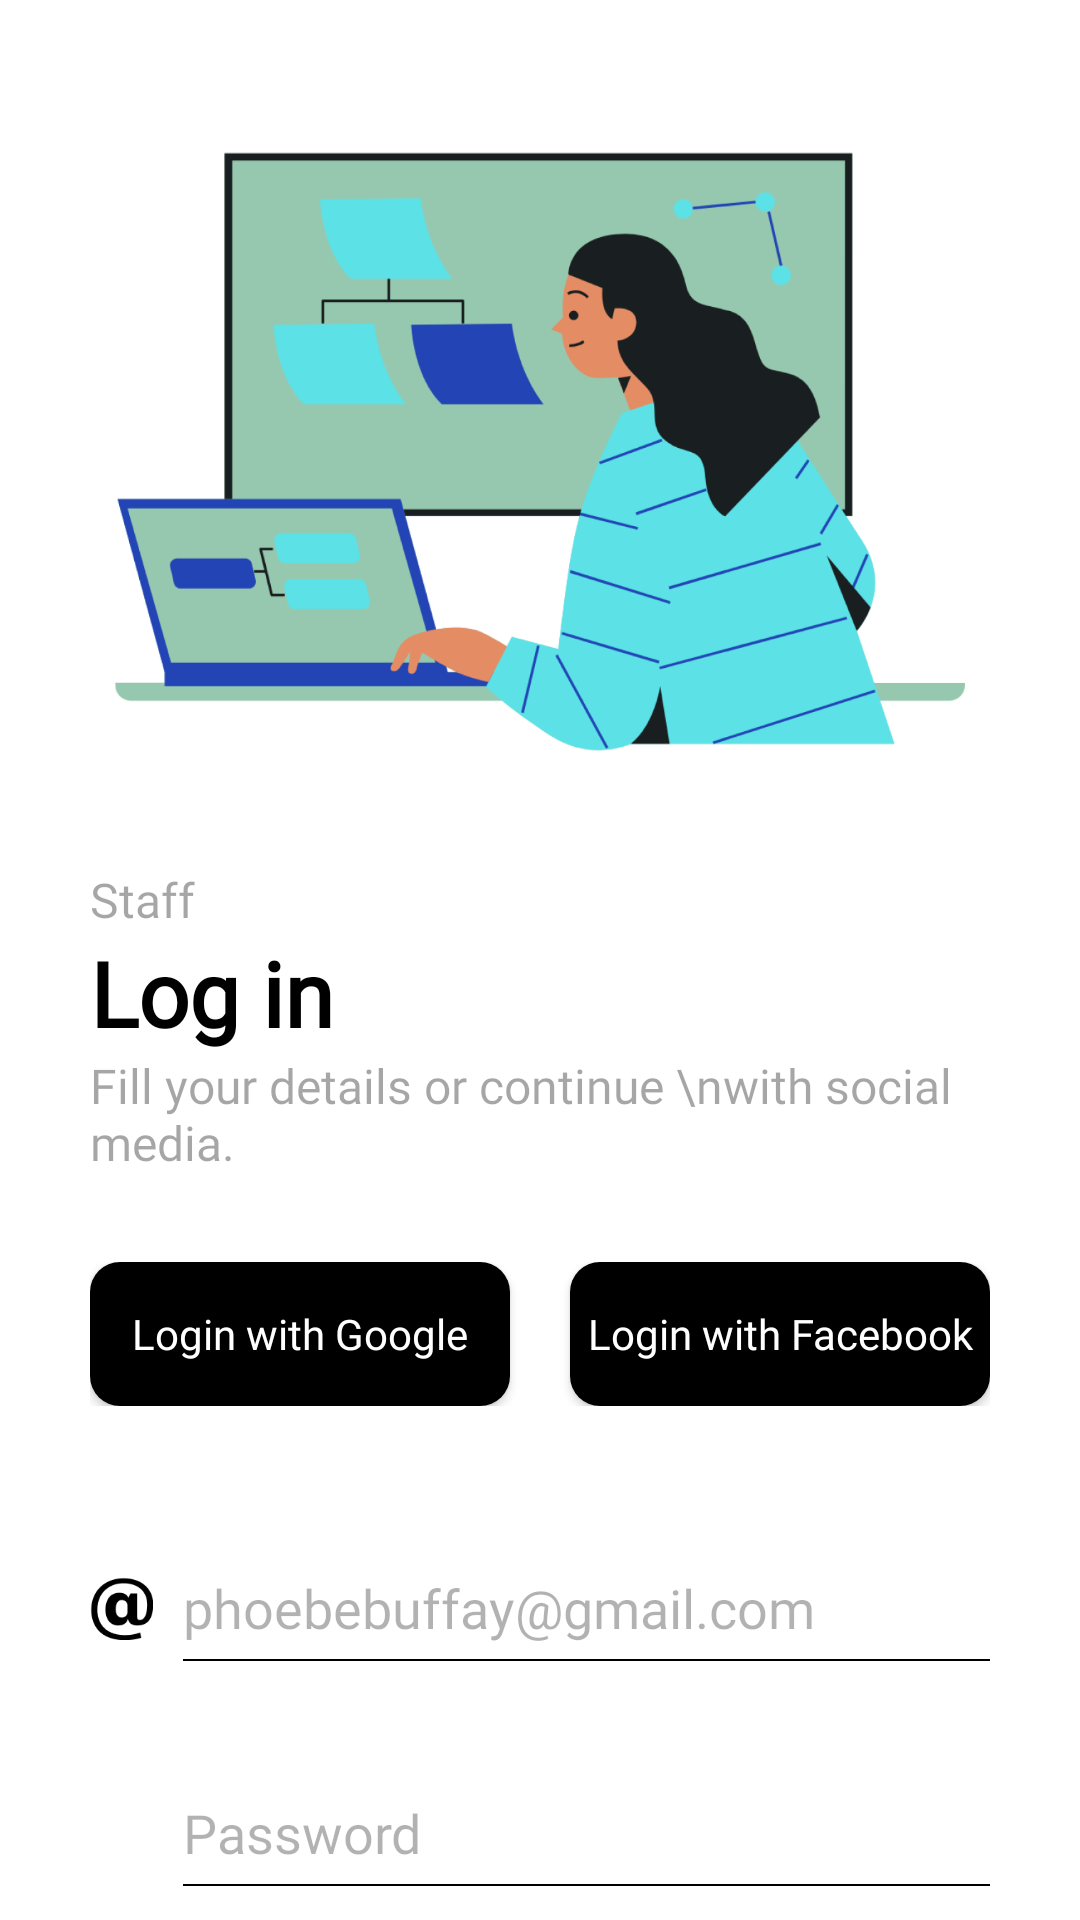

Icon click points for this 1080px×1920px phone screenshot, format [x,y]:
email: [122,1609]
